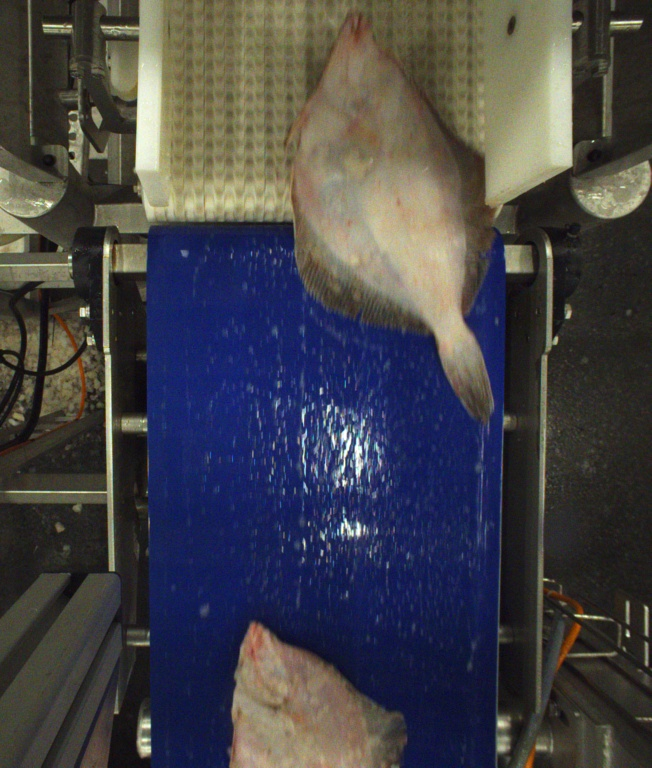PLE: (286, 11, 497, 423)
